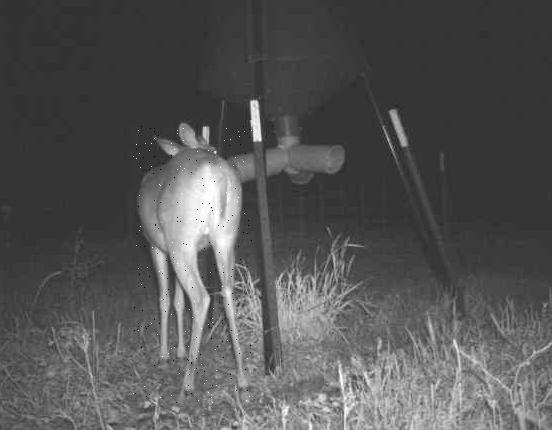Deer: (134, 120, 253, 403)
